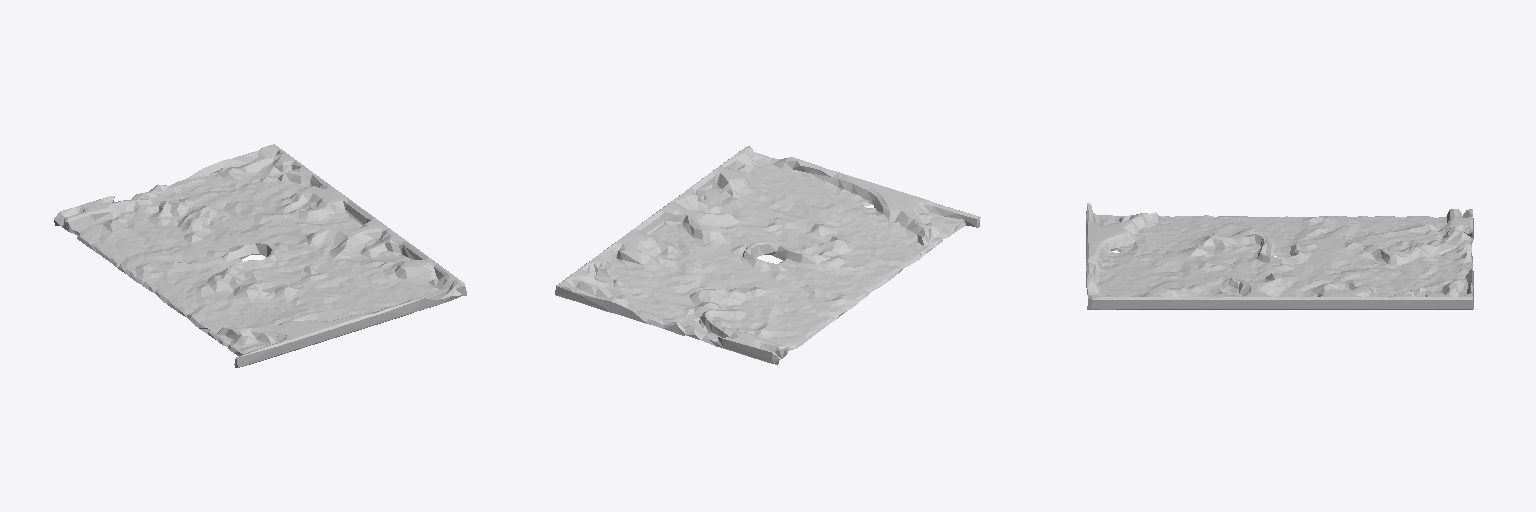
3 views of the same model, side by side, from view 1: azimuth 30°, elevation 25°; view 2: azimuth 150°, elevation 25°; view 3: azimuth 270°, elevation 25° (orthographic).
Visible parts, largest first — view 1: Liquid_Domain; view 2: Liquid_Domain; view 3: Liquid_Domain.
Part boxes in pixels (x1,y1,x2,y2): Liquid_Domain: (54, 144, 466, 367); Liquid_Domain: (555, 146, 980, 364); Liquid_Domain: (1086, 203, 1473, 309).
Size of the model in its own units: 116 by 13.68 by 168.